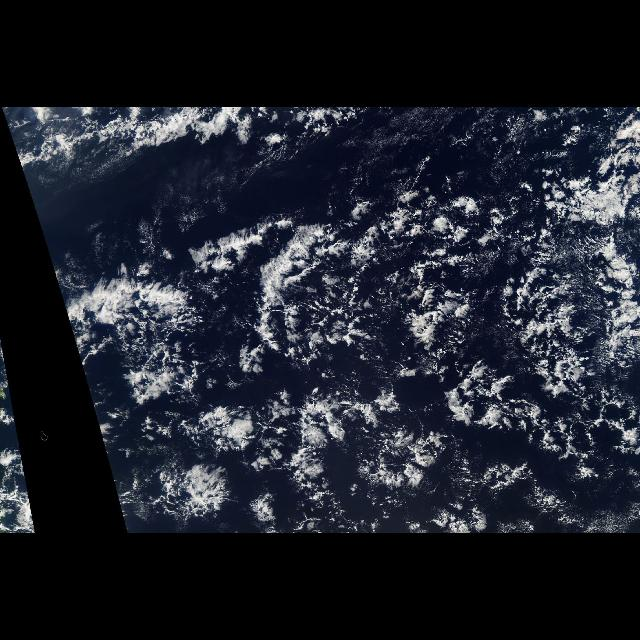Fish: (46, 218, 342, 366)
Flower: (70, 224, 276, 526)
Gravel: (204, 172, 638, 518)
